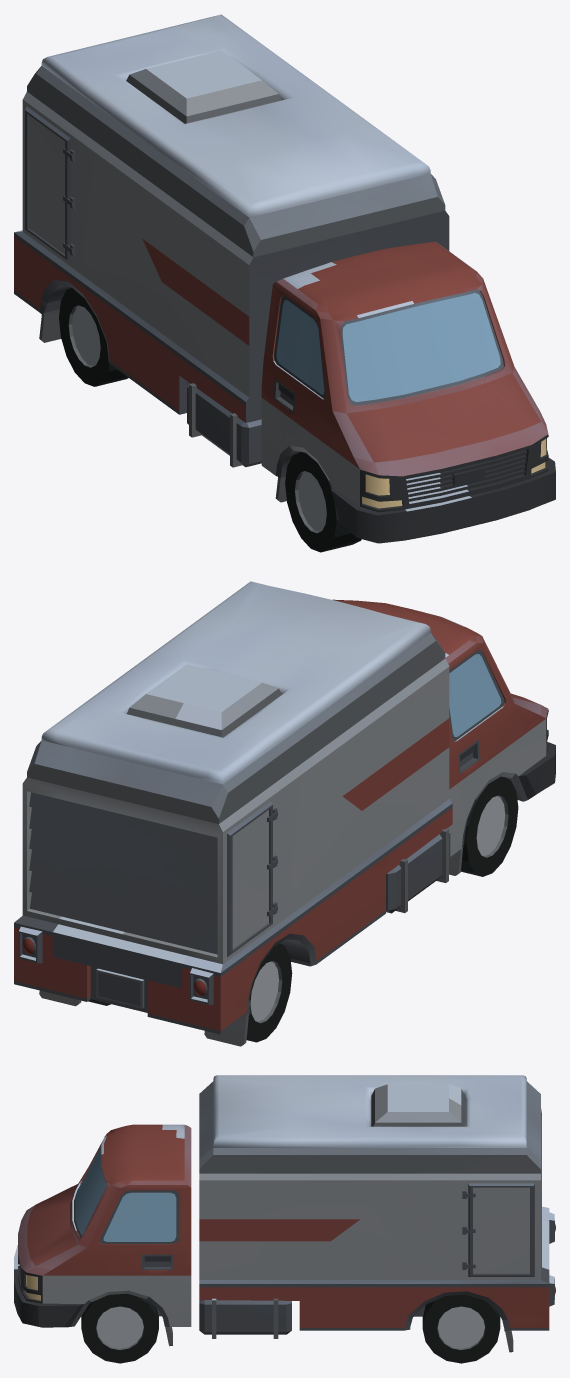
The model's file is box_truck_clean.glb.
3 renders of one model, top to bottom at view 1: azimuth 30°, elevation 25°; view 2: azimuth 150°, elevation 25°; view 3: azimuth 270°, elevation 25°, orthographic. The views are drawn at different scales.
Visible parts, largest first — view 1: Body, Glass; view 2: Body, Glass; view 3: Body, Glass.
Boxes of the visible parts, <box> form: Body: <box>14,14,555,552</box>; Glass: <box>276,293,500,401</box>; Body: <box>14,581,555,1046</box>; Glass: <box>449,654,501,736</box>; Body: <box>14,1075,555,1363</box>; Glass: <box>75,1146,176,1241</box>.
Bounding box in the file's own units: 2.5 × 3.4 × 7.2.
